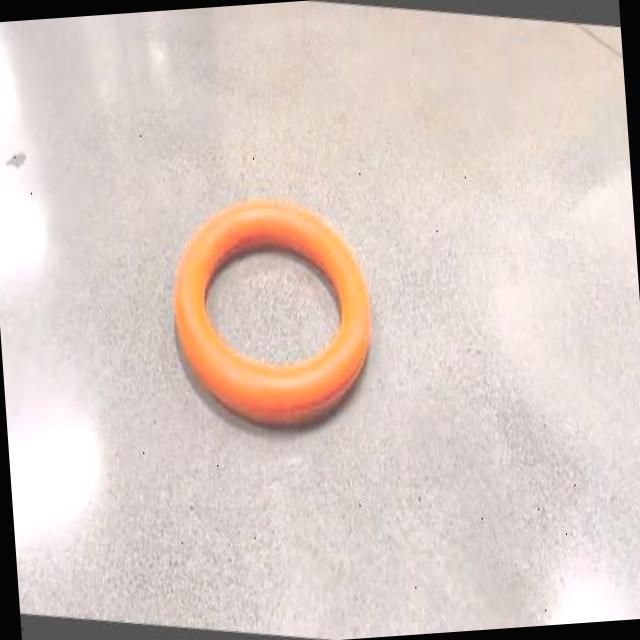note: (174, 202, 370, 424)
